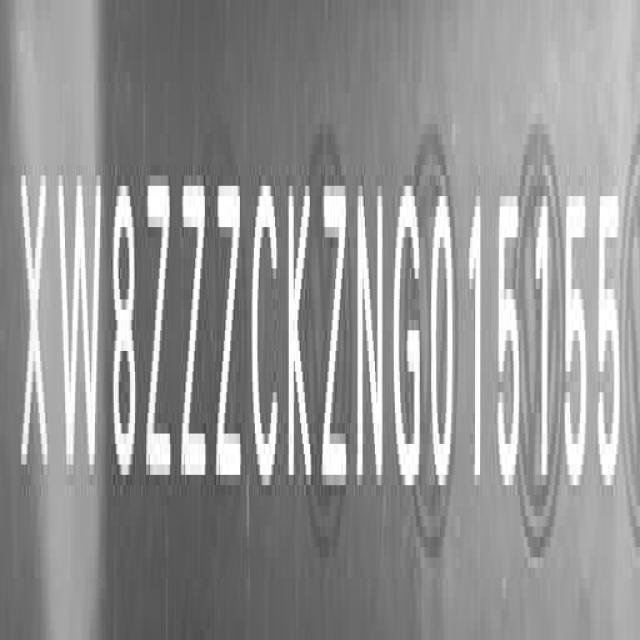0: (428, 180, 456, 501)
1: (532, 173, 552, 504), (463, 172, 482, 502)
5: (598, 174, 625, 498), (498, 175, 524, 502), (564, 178, 590, 502)
8: (113, 174, 139, 496)
C: (252, 172, 282, 499)
G: (394, 176, 424, 498)
K: (286, 165, 314, 502)
N: (356, 176, 385, 504)
W: (55, 168, 103, 498)
X: (18, 162, 48, 496)
Z: (321, 170, 350, 498), (182, 169, 210, 506), (144, 164, 172, 500), (215, 164, 243, 497)
